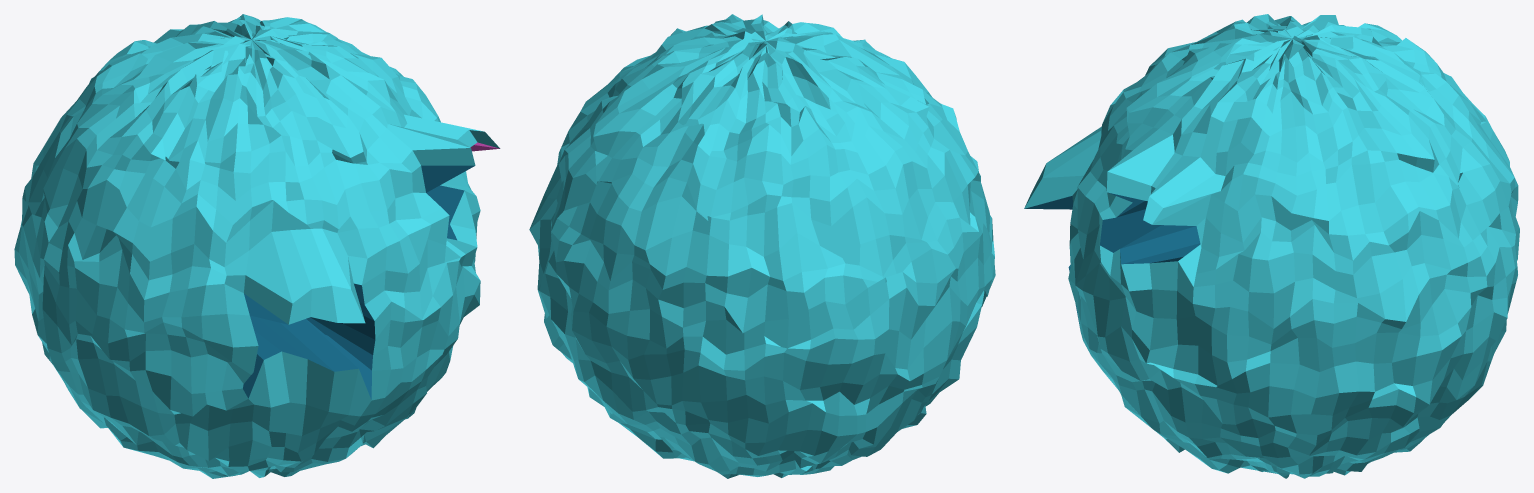
Rendered from Planet.obj.
3 renders of one model, left to right at view 1: azimuth 30°, elevation 25°; view 2: azimuth 150°, elevation 25°; view 3: azimuth 270°, elevation 25°, orthographic.
Parts seen in each view (by area): view 1: a:Sphere_2 a:Sphere; view 2: a:Sphere_2 a:Sphere; view 3: a:Sphere_2 a:Sphere.
Boxes of the visible parts, x1,y1,x2,y2 form: a:Sphere_2 a:Sphere: [14, 14, 500, 478]; a:Sphere_2 a:Sphere: [529, 14, 995, 478]; a:Sphere_2 a:Sphere: [1024, 14, 1519, 478].
Size of the model in its own units: 1711 by 1754 by 1837.
